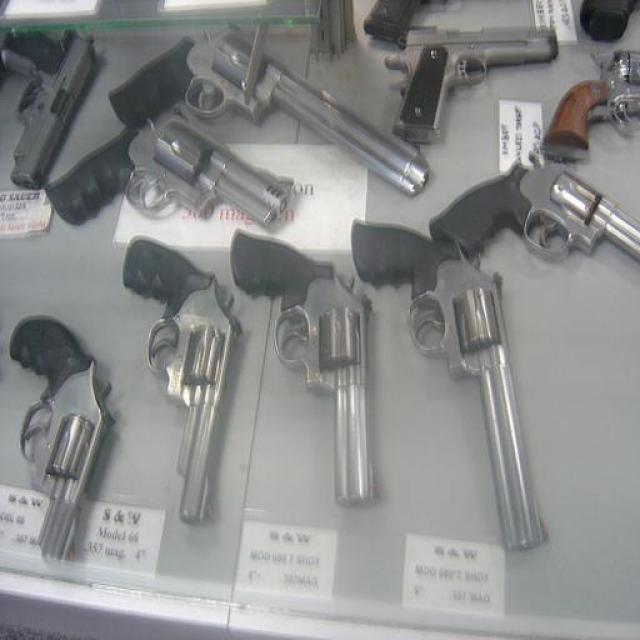pistol: (347, 218, 557, 559), (111, 24, 433, 190), (229, 226, 375, 511), (126, 235, 244, 531), (45, 114, 295, 228), (5, 315, 115, 559), (386, 21, 561, 141), (427, 156, 637, 255), (1, 25, 96, 194)
